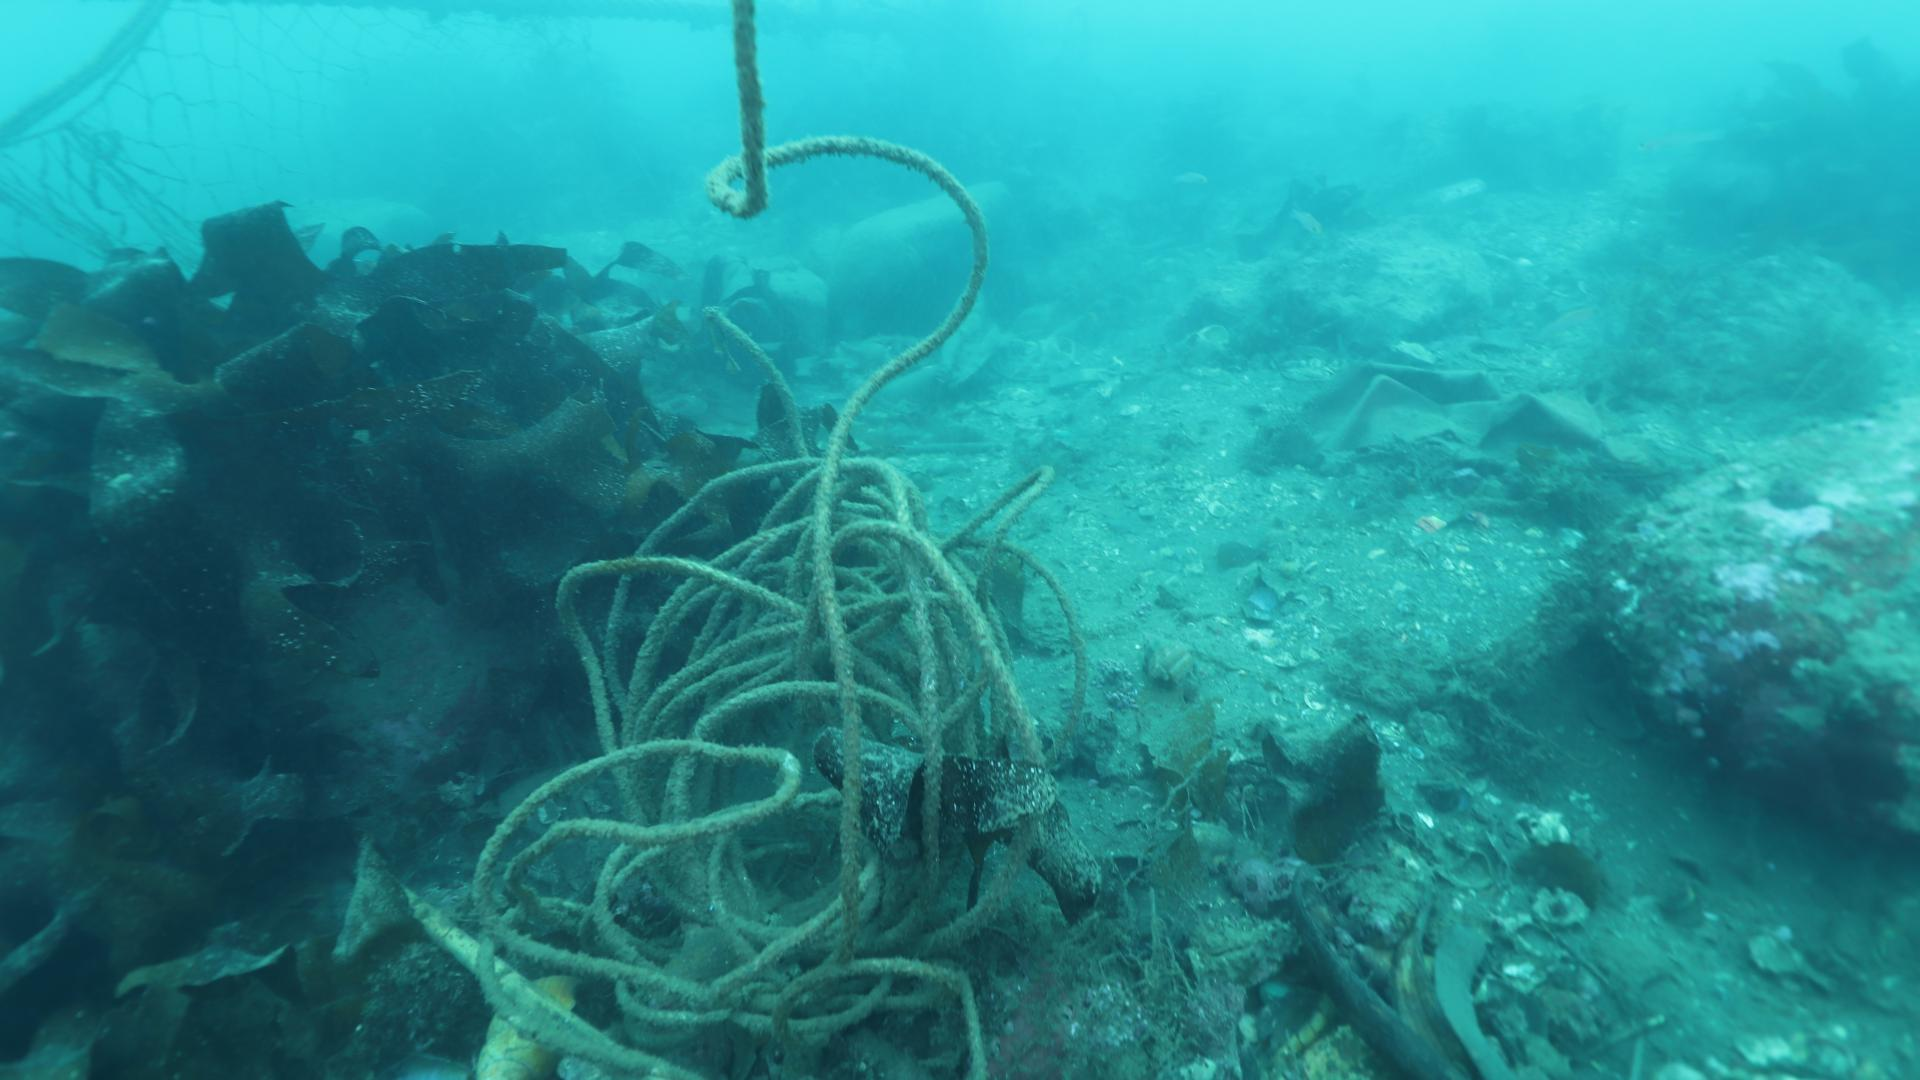bundle of ropes: (473, 0, 1087, 1080)
